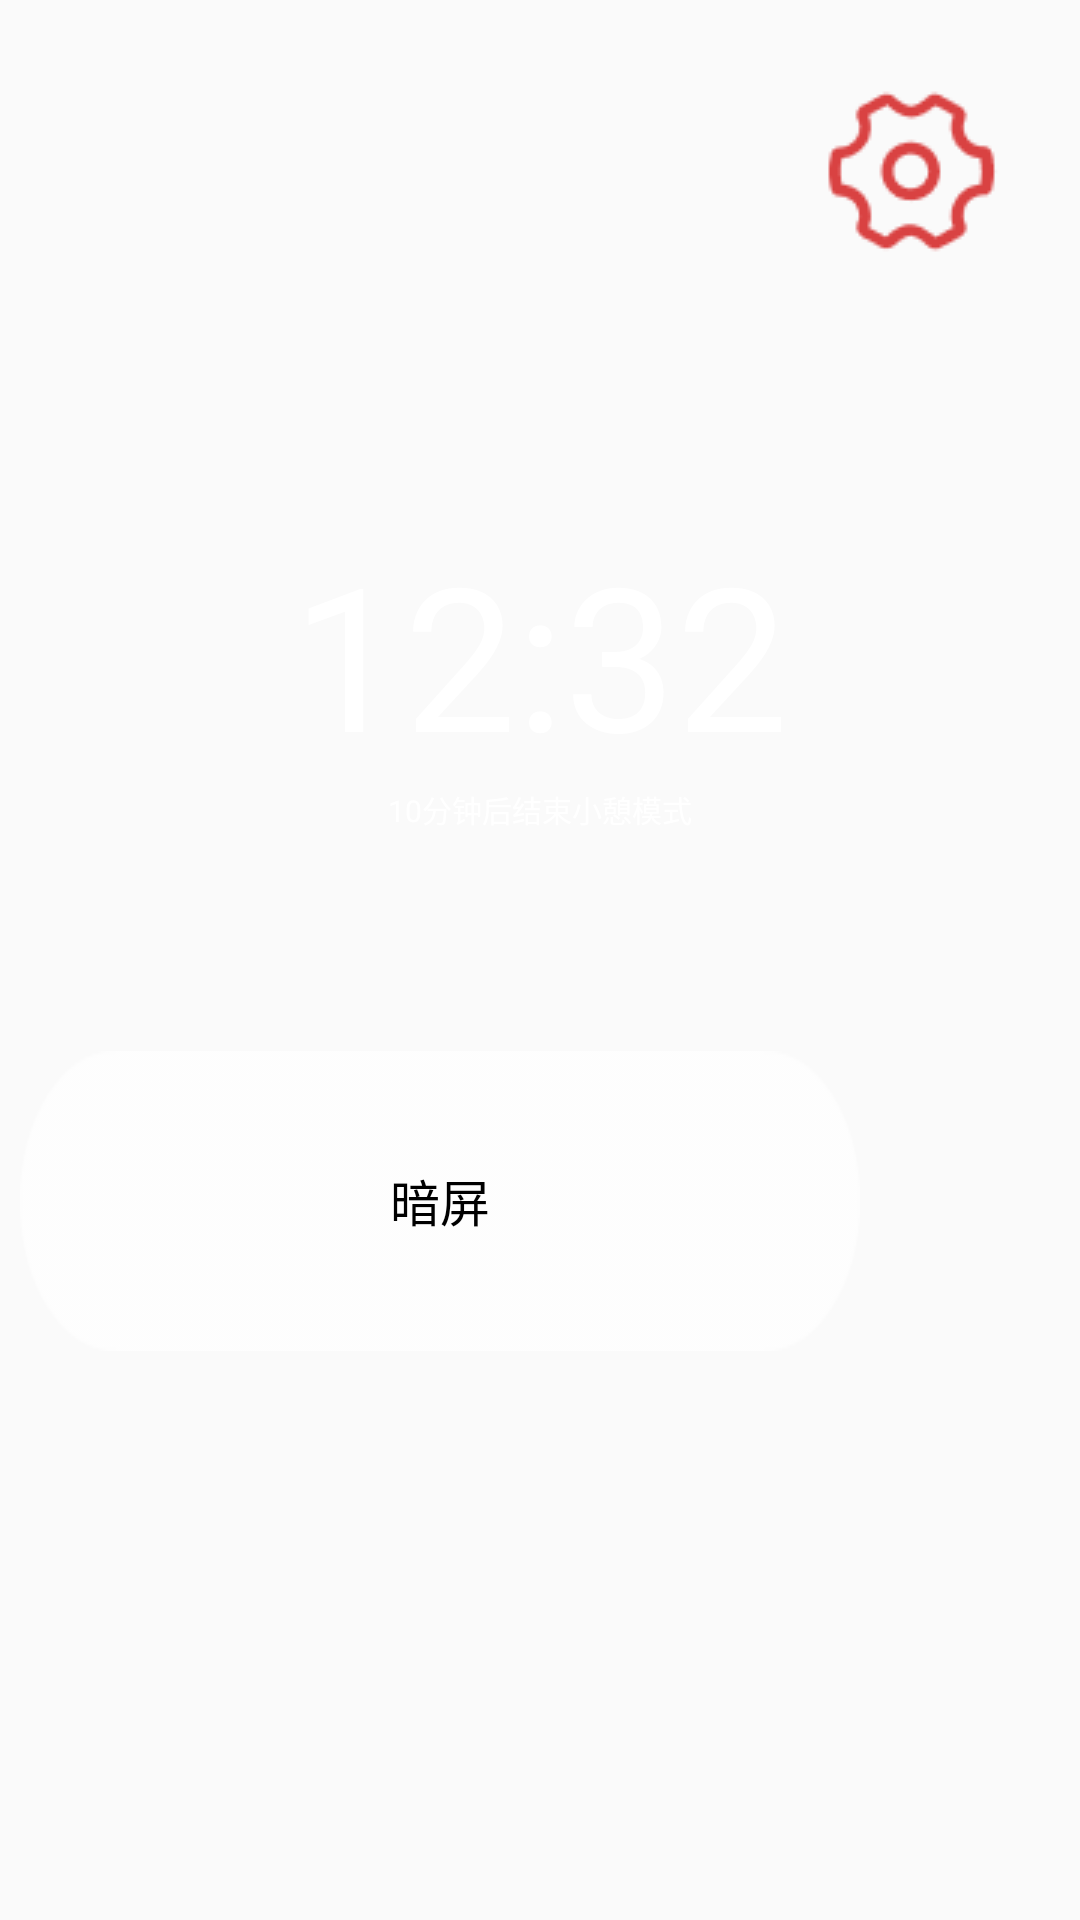

Point at icon controls on the screen. Image size 1080*1920, points as point (x, y).
shezhi: point (911, 171)
